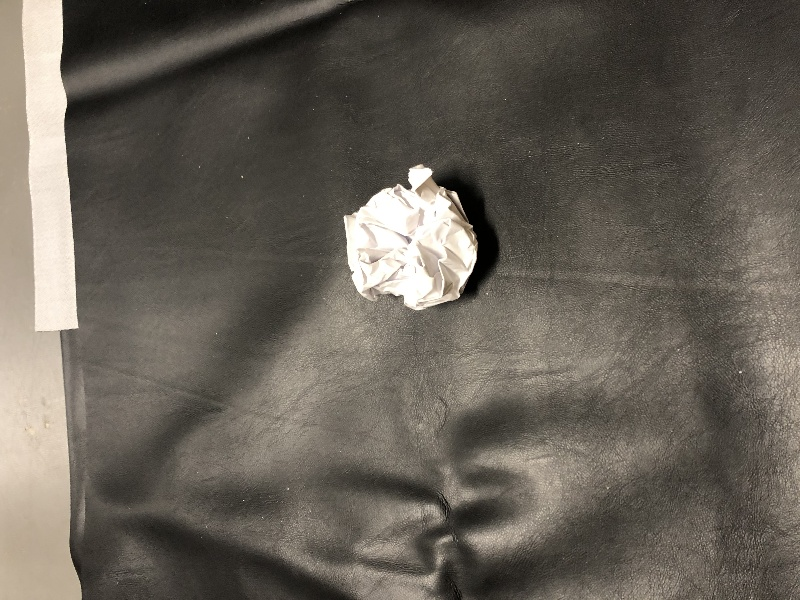paper: (324, 156, 485, 309)
